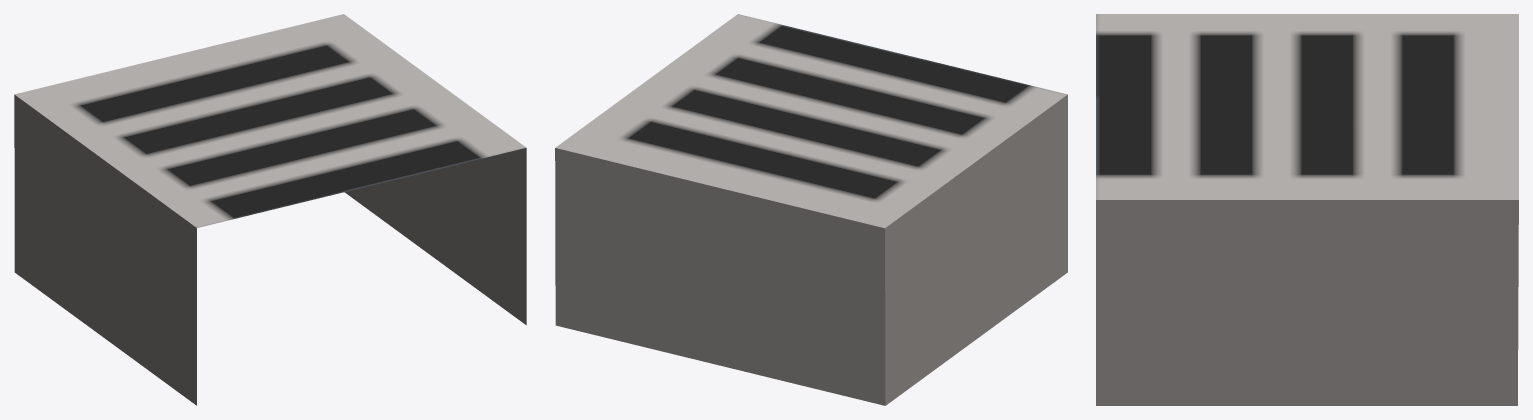
The model's file is Drain.fbx.
3 renders of one model, left to right at view 1: azimuth 30°, elevation 25°; view 2: azimuth 150°, elevation 25°; view 3: azimuth 270°, elevation 25°, orthographic. The views are drawn at different scales.
Visible parts, largest first — view 1: Drain; view 2: Drain; view 3: Drain.
Part boxes in pixels (box(x1,y1,x2,y2)): Drain: box(14, 14, 526, 405); Drain: box(555, 14, 1067, 405); Drain: box(1096, 14, 1518, 405).
Bounding box in the file's own units: 0.4145 × 0.2138 × 0.398.
